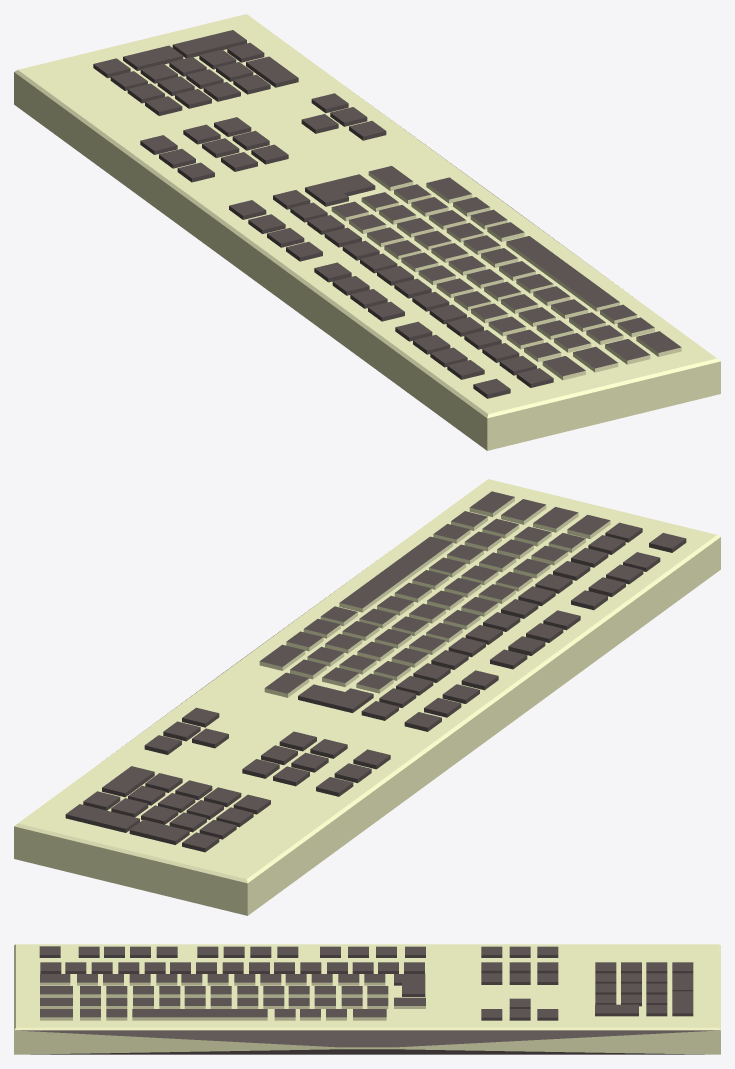
Rendered from keyboard.glb.
The picture shows the model from 3 angles, top to bottom: view 1: azimuth 30°, elevation 25°; view 2: azimuth 150°, elevation 25°; view 3: azimuth 270°, elevation 25°; orthographic projection. The views are drawn at different scales.
Visible parts, largest first — view 1: Cube; view 2: Cube; view 3: Cube.
Part boxes in pixels (x1=…): Cube: x1=14, y1=14, x2=720, y2=450; Cube: x1=14, y1=479, x2=720, y2=915; Cube: x1=14, y1=944, x2=720, y2=1054.
Size of the model in its own units: 0.3048 by 0.0461 by 1.
